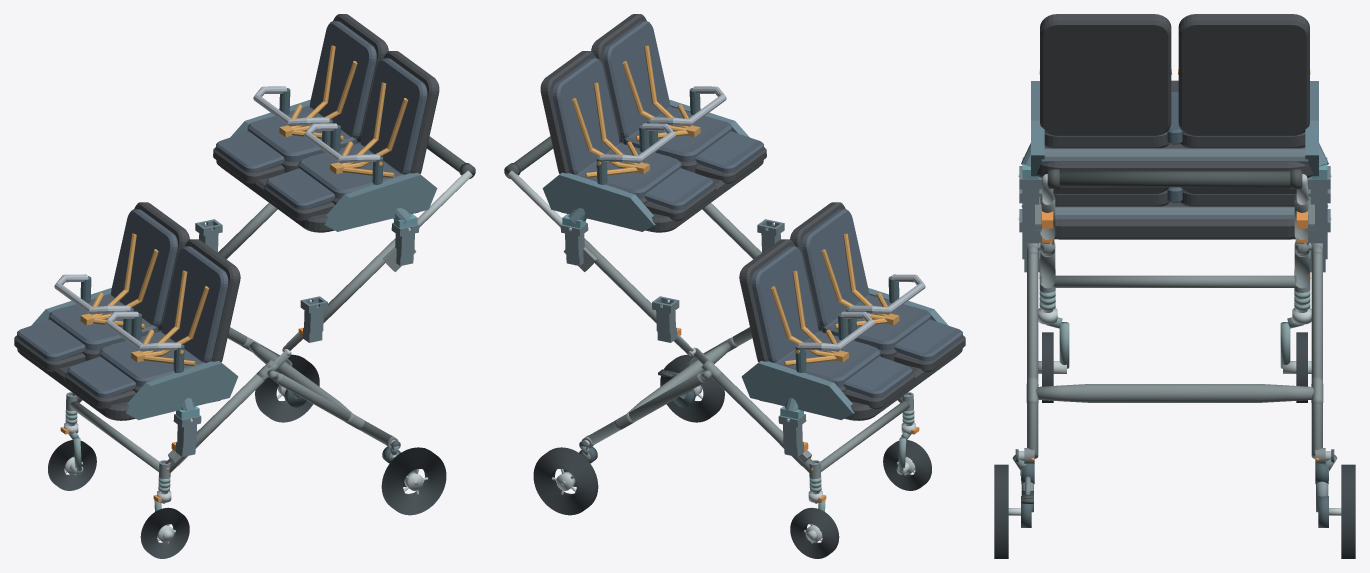
Rendered from D26_w650_state1_wheel_S.glb.
3 views of the same model, side by side, from view 1: azimuth 30°, elevation 25°; view 2: azimuth 150°, elevation 25°; view 3: azimuth 270°, elevation 25° (orthographic). The views are drawn at different scales.
Visible parts, largest first — view 1: D26_Upper, D26_Lower, RL_tire.008, RR_tire.008, FL_tire.008, FR_tire.008, V46_rear_leg_-1.009, main_lower_-1.009, main_upper_-1.009, front_fixed_round_tube.008, V46_rearbar.009, Universal_Cabin_Receiver_M_-1 (+6 smaller); view 2: D26_Upper, D26_Lower, RR_tire.008, FR_tire.008, RL_tire.008, FL_tire.008, V46_rear_leg_1.009, main_lower_1.009, main_upper_1.009, front_fixed_round_tube.008, V46_rearbar.009, Universal_Cabin_Receiver_M_1 (+6 smaller); view 3: D26_Upper, D26_Lower, V46_rearbar.009, round_handle.008, front_fixed_round_tube.008, V46_rear_leg_1.009, V46_rear_leg_-1.009, RL_tire.008, RR_tire.008, Universal_Cabin_Receiver_H_1, Universal_Cabin_Receiver_H_-1, FL_tire.008 (+6 smaller).
Boxes of the visible parts, bbox=[...] form: D26_Upper: bbox=[213, 14, 439, 232]; D26_Lower: bbox=[14, 202, 240, 420]; RL_tire.008: bbox=[381, 447, 446, 515]; RR_tire.008: bbox=[255, 354, 319, 422]; FL_tire.008: bbox=[140, 507, 189, 558]; FR_tire.008: bbox=[48, 440, 96, 490]; V46_rear_leg_-1.009: bbox=[275, 373, 391, 444]; main_lower_-1.009: bbox=[165, 374, 267, 472]; main_upper_-1.009: bbox=[323, 238, 395, 323]; front_fixed_round_tube.008: bbox=[70, 401, 159, 471]; V46_rearbar.009: bbox=[249, 342, 352, 413]; Universal_Cabin_Receiver_M_-1: bbox=[300, 296, 327, 342]; D26_Upper: bbox=[540, 14, 766, 232]; D26_Lower: bbox=[739, 202, 965, 420]; RR_tire.008: bbox=[533, 447, 598, 515]; FR_tire.008: bbox=[790, 507, 839, 558]; RL_tire.008: bbox=[660, 354, 724, 422]; FL_tire.008: bbox=[883, 440, 931, 490]; V46_rear_leg_1.009: bbox=[588, 373, 704, 444]; main_lower_1.009: bbox=[712, 374, 814, 472]; main_upper_1.009: bbox=[584, 238, 656, 323]; front_fixed_round_tube.008: bbox=[820, 401, 909, 471]; V46_rearbar.009: bbox=[627, 342, 730, 413]; Universal_Cabin_Receiver_M_1: bbox=[652, 296, 679, 342]; D26_Upper: bbox=[1031, 14, 1318, 177]; D26_Lower: bbox=[1042, 178, 1307, 239]; V46_rearbar.009: bbox=[1036, 384, 1313, 402]; round_handle.008: bbox=[1047, 171, 1302, 187]; front_fixed_round_tube.008: bbox=[1053, 275, 1296, 287]; V46_rear_leg_1.009: bbox=[1311, 251, 1322, 458]; V46_rear_leg_-1.009: bbox=[1027, 251, 1038, 458]; RL_tire.008: bbox=[994, 464, 1008, 558]; RR_tire.008: bbox=[1341, 464, 1355, 558]; Universal_Cabin_Receiver_H_1: bbox=[1308, 166, 1330, 229]; Universal_Cabin_Receiver_H_-1: bbox=[1019, 166, 1041, 229]; FL_tire.008: bbox=[1042, 332, 1053, 402].
Size of the model in its own units: 1.25 by 1.32 by 0.766.
